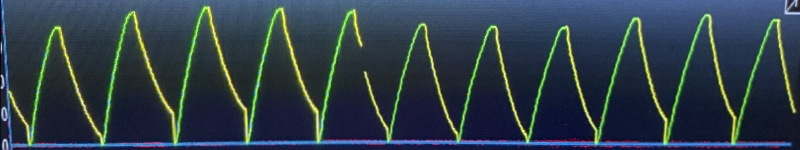leakage: (5, 0, 746, 150)
